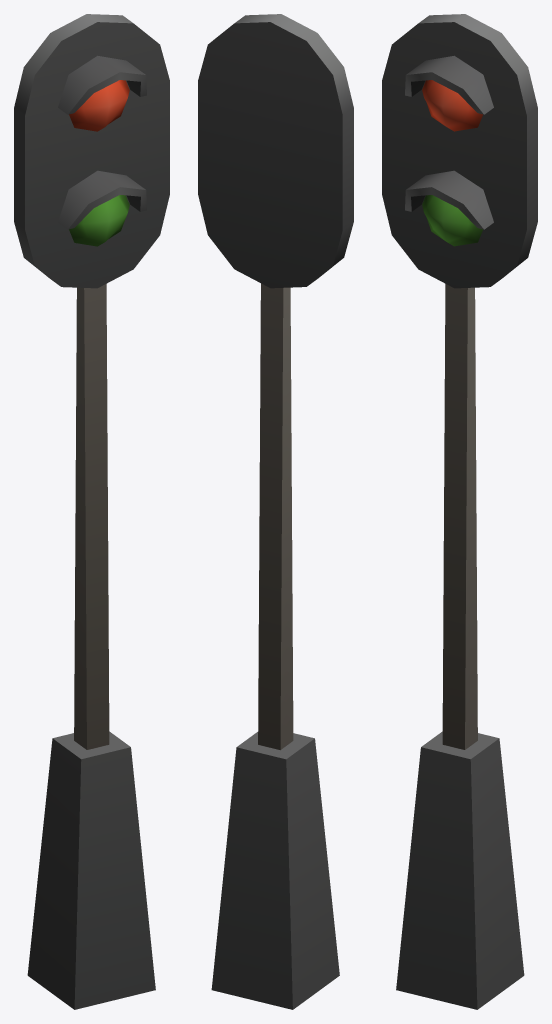
Rendered from Semaphore.fbx.
3 views of the same model, side by side, from view 1: azimuth 30°, elevation 25°; view 2: azimuth 150°, elevation 25°; view 3: azimuth 330°, elevation 25° (orthographic).
Visible parts, largest first — view 1: Semaphore; view 2: Semaphore; view 3: Semaphore.
Boxes of the visible parts, x1,y1,x2,y2 form: Semaphore: (14,14,169,1009); Semaphore: (198,14,353,1009); Semaphore: (382,14,537,1009).
Size of the model in its own units: 59.74 by 381 by 36.97.
